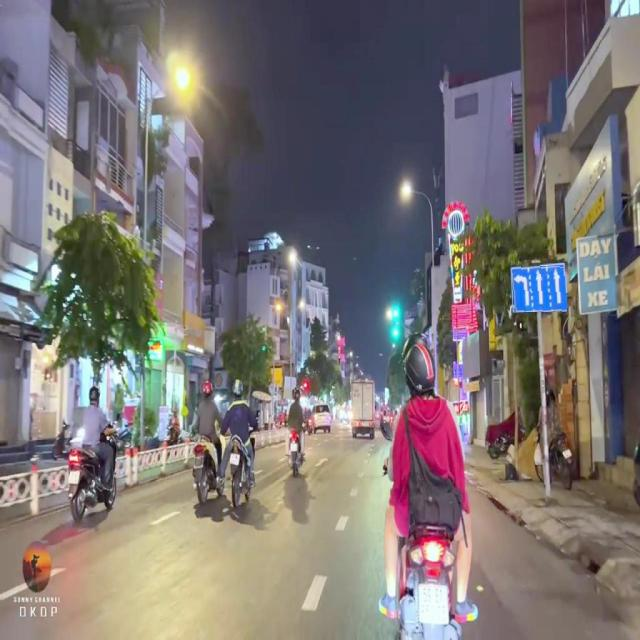huong_di_tren_moi_lan_duong_theo_vach_ke_duong: (511, 264, 567, 312)
